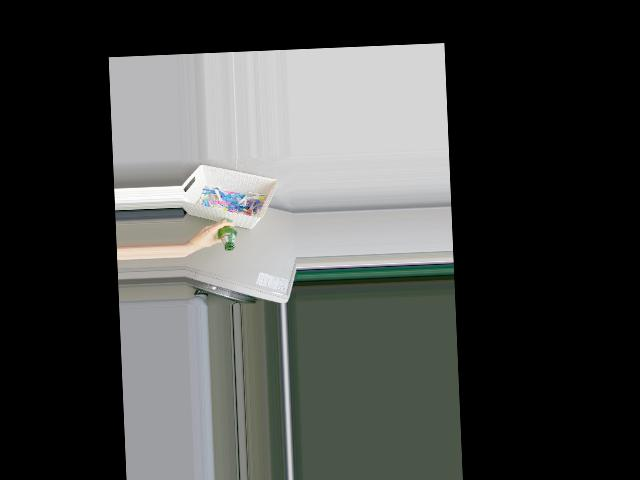beer: (216, 218, 237, 251)
